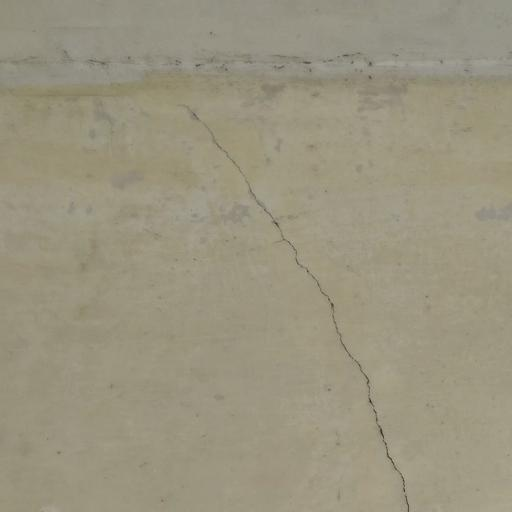minor_crack: (165, 85, 434, 512)
